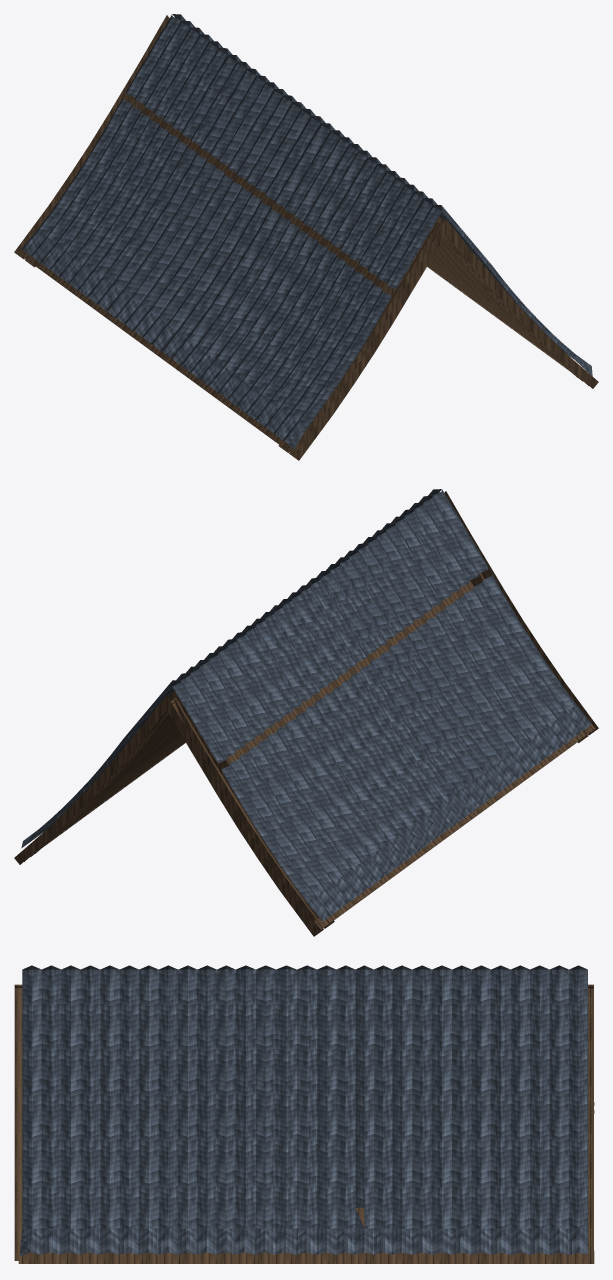
File: Roof_Slate_8x14.gltf
3 renders of one model, top to bottom at view 1: azimuth 30°, elevation 25°; view 2: azimuth 150°, elevation 25°; view 3: azimuth 270°, elevation 25°, orthographic. The views are drawn at different scales.
Visible parts, largest first — view 1: Roof_Slate_8x14; view 2: Roof_Slate_8x14; view 3: Roof_Slate_8x14.
Part boxes in pixels (<box>): Roof_Slate_8x14: <box>14,14,598,460</box>; Roof_Slate_8x14: <box>14,489,598,936</box>; Roof_Slate_8x14: <box>14,965,594,1263</box>.
Size of the model in its own units: 9.95 by 6.58 by 15.66.
2 materials, 2 textured.
